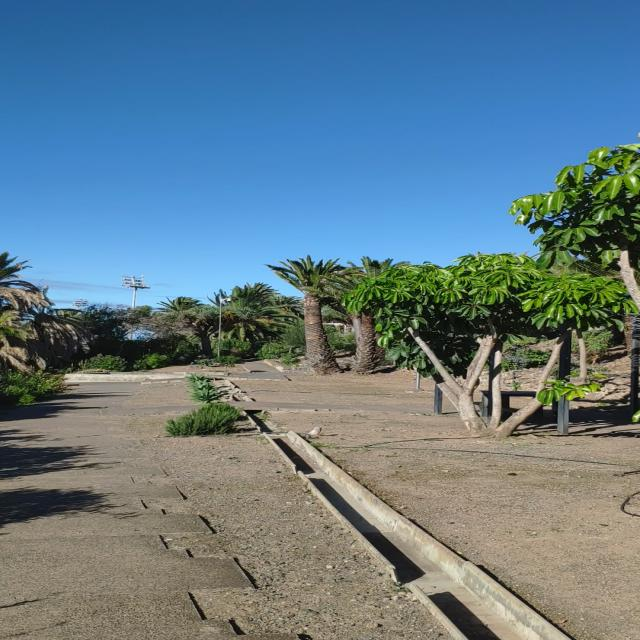Palm-Trees: (276, 259, 352, 371)
